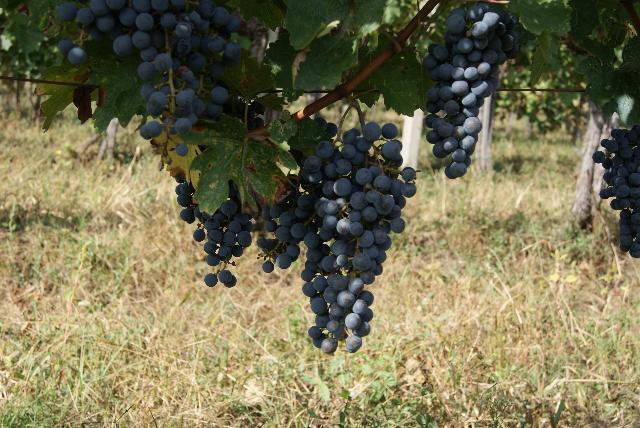grapes: (296, 122, 416, 354), (59, 0, 240, 140), (422, 1, 519, 179), (175, 181, 254, 266), (592, 125, 640, 259)
